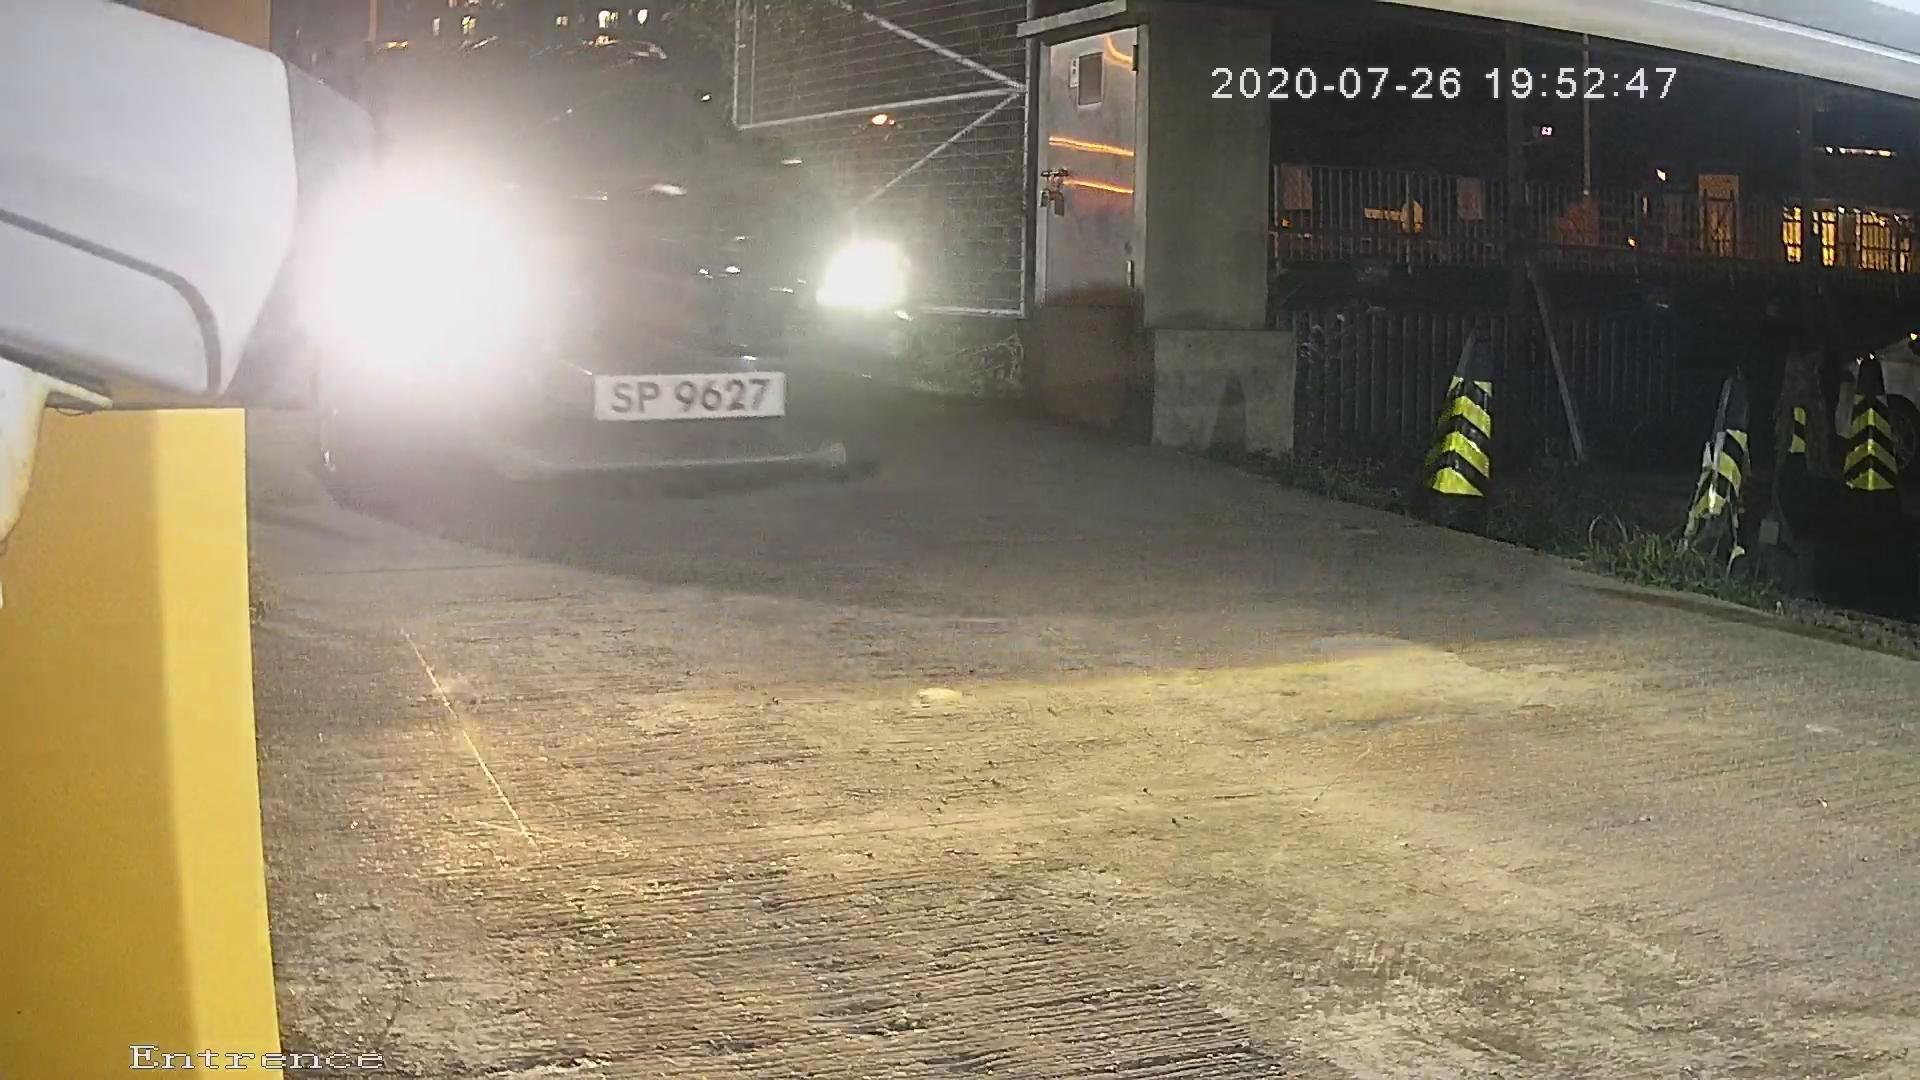License Plate: (558, 348, 815, 439)
